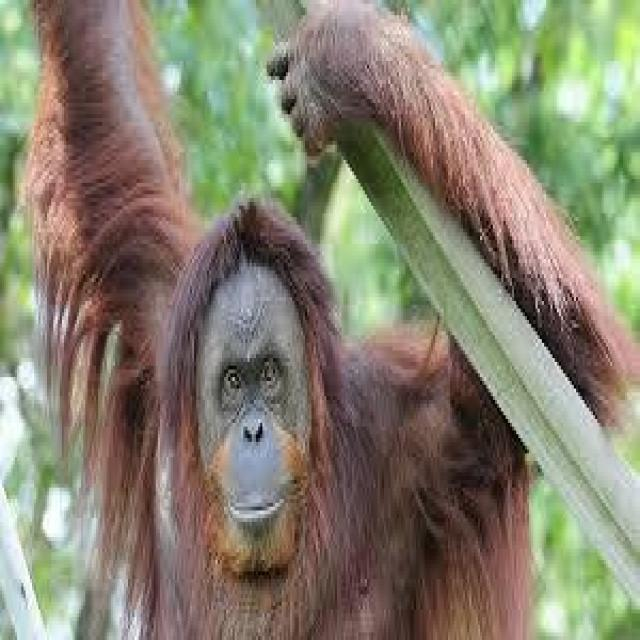Chimpanzee: (39, 87, 468, 640)
